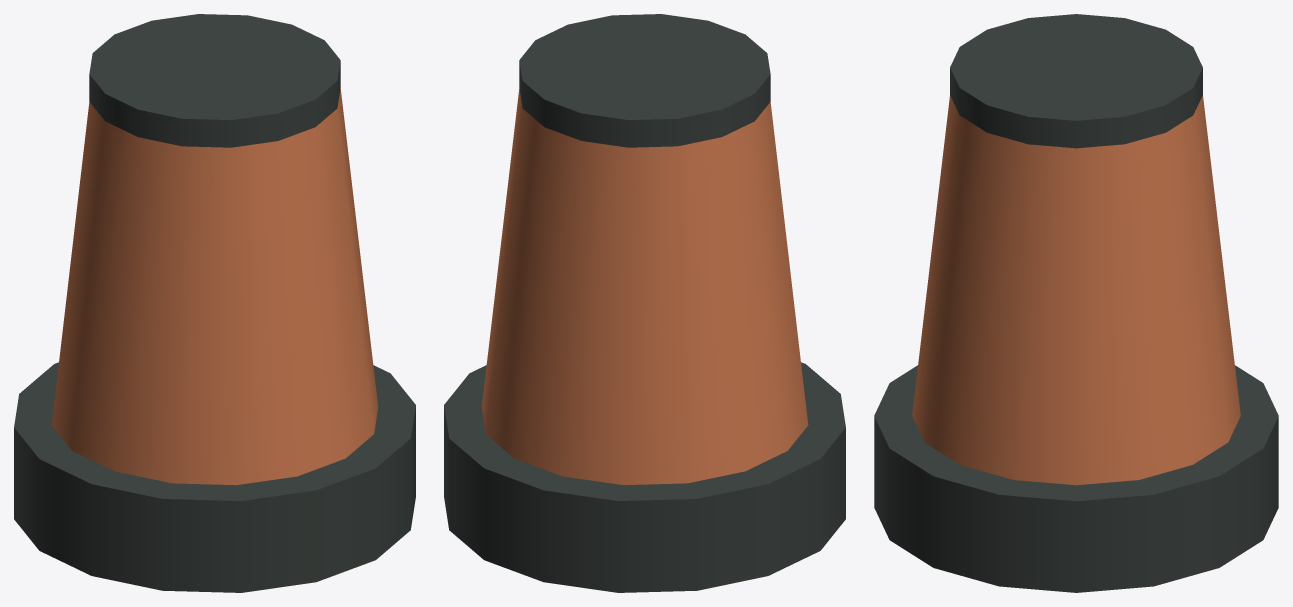
Rendered from off-grid-power-and-controls-warning-beacon-b8565aa9__3017.glb.
3 views of the same model, side by side, from view 1: azimuth 30°, elevation 25°; view 2: azimuth 150°, elevation 25°; view 3: azimuth 270°, elevation 25° (orthographic).
Visible parts, largest first — view 1: warning-beacon; view 2: warning-beacon; view 3: warning-beacon.
Part boxes in pixels (bbox=[...]): warning-beacon: bbox=[14, 14, 415, 592]; warning-beacon: bbox=[444, 14, 845, 592]; warning-beacon: bbox=[874, 14, 1278, 592].
Size of the model in its own units: 0.16 by 0.192 by 0.16.
